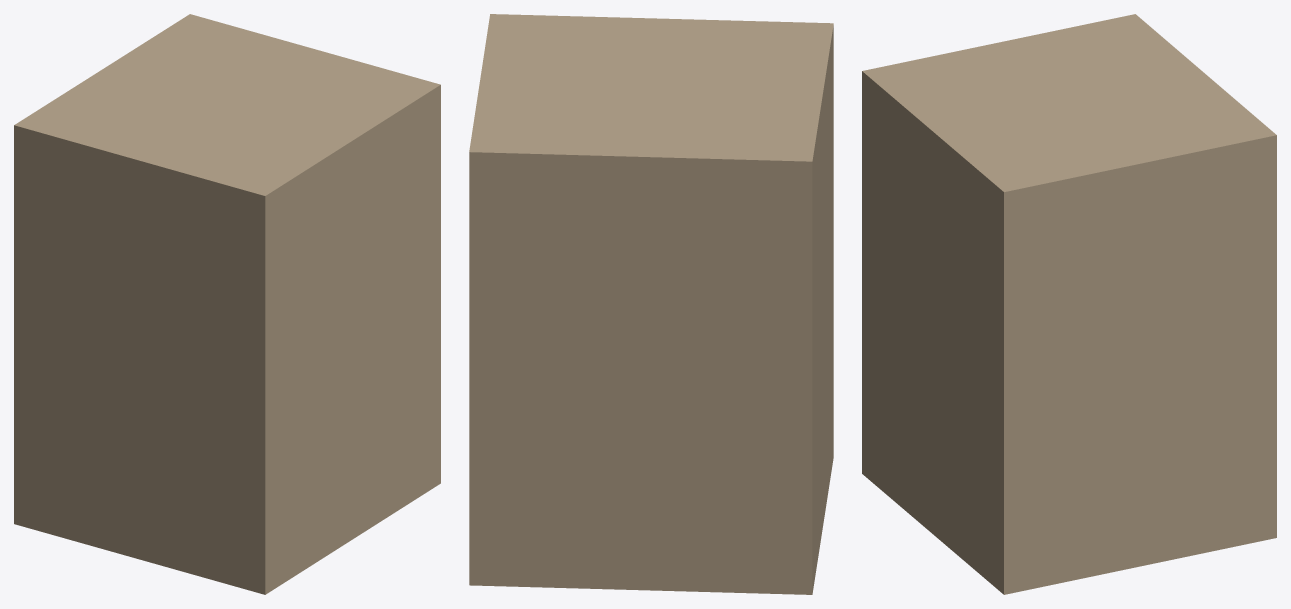
Rendered from bld_101353771.dae.
3 renders of one model, left to right at view 1: azimuth 30°, elevation 25°; view 2: azimuth 150°, elevation 25°; view 3: azimuth 270°, elevation 25°, orthographic. The views are drawn at different scales.
Visible parts, largest first — view 1: bld_101353771; view 2: bld_101353771; view 3: bld_101353771.
Boxes of the visible parts, <box> form: bld_101353771: <box>14,14,440,594</box>; bld_101353771: <box>469,14,833,594</box>; bld_101353771: <box>862,14,1276,594</box>.
Bounding box in the file's own units: 7.59 × 7.47 × 8.
